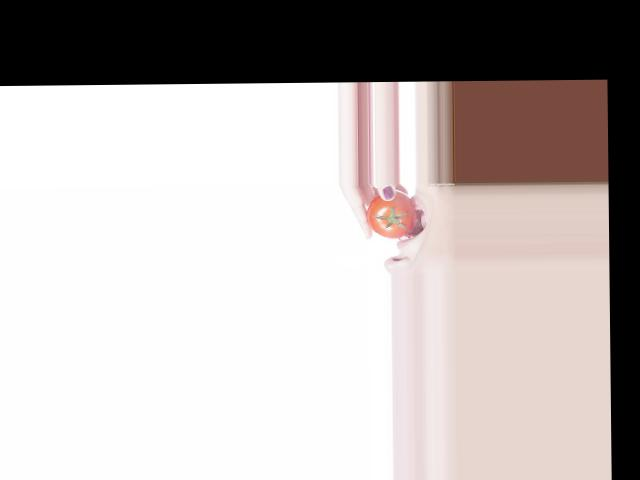tomato: (365, 189, 415, 238)
